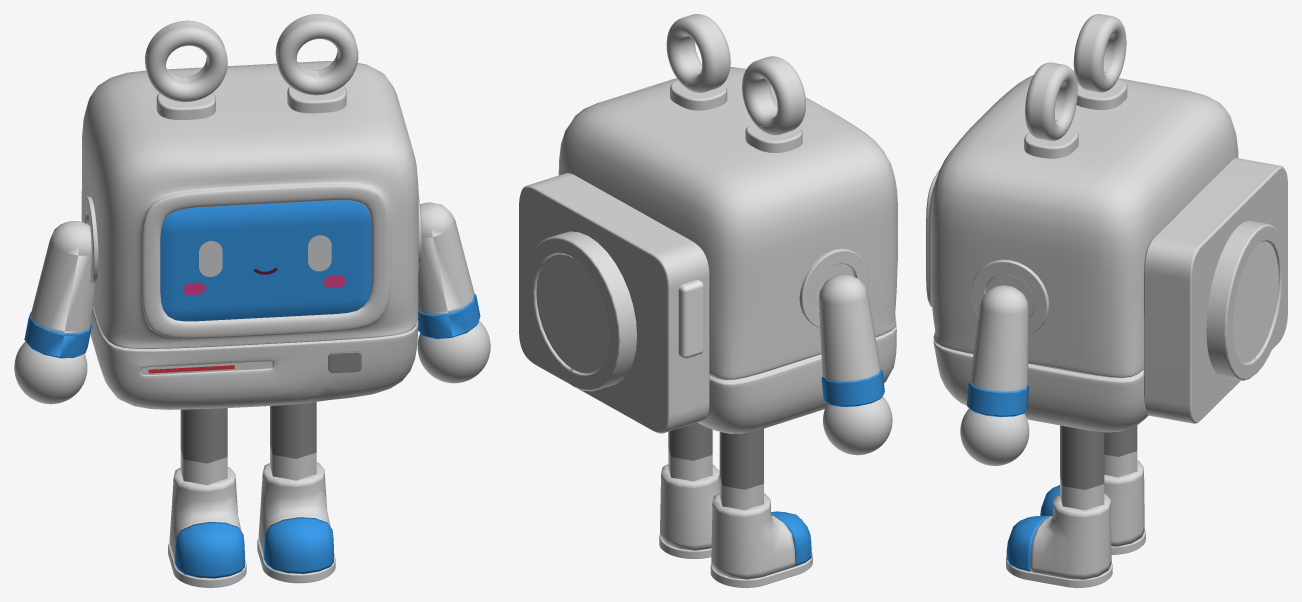
Rendered from robot2.glb.
The picture shows the model from 3 angles, left to right: view 1: azimuth 30°, elevation 25°; view 2: azimuth 150°, elevation 25°; view 3: azimuth 270°, elevation 25°; orthographic projection. The views are drawn at different scales.
Visible parts, largest first — view 1: body shape, face.001, Cylinder.001, Cylinder.002, Cylinder.003, Cylinder.004, Cube 6, Cube 6.001, Cube 5.001, Cube 5.002, Sphere 3, Sphere 3.001 (+15 smaller); view 2: body shape, Rectangle 7, Cylinder, Ellipse.001, Cylinder.001, Cube 5.002, Cube 5.001, Cylinder.003, Cylinder.004, Sphere 3, Cylinder 2.003, Cube 5 (+10 smaller); view 3: body shape, Rectangle 7, Cylinder, Cube 5.001, Cylinder.002, Ellipse.001, Cylinder.004, Cylinder.003, Sphere 3.001, Cylinder 2.002, Cube 5.002, Cylinder 3.001 (+8 smaller).
Boxes of the visible parts, <box> form: body shape: <box>81,61,418,409</box>; face.001: <box>160,200,371,321</box>; Cylinder.001: <box>30,221,94,333</box>; Cylinder.002: <box>418,202,474,314</box>; Cylinder.003: <box>275,14,358,95</box>; Cylinder.004: <box>145,20,227,101</box>; Cube 6: <box>264,517,333,573</box>; Cube 6.001: <box>174,521,244,578</box>; Cube 5.001: <box>258,462,334,558</box>; Cube 5.002: <box>169,467,245,562</box>; Sphere 3: <box>14,341,87,404</box>; Sphere 3.001: <box>417,320,490,383</box>; body shape: <box>558,67,897,433</box>; Rectangle 7: <box>519,173,709,433</box>; Cylinder: <box>524,231,636,391</box>; Ellipse.001: <box>536,254,609,373</box>; Cylinder.001: <box>818,274,880,381</box>; Cube 5.002: <box>711,493,795,579</box>; Cube 5.001: <box>660,464,719,550</box>; Cylinder.003: <box>666,14,730,92</box>; Cylinder.004: <box>742,56,805,135</box>; Sphere 3: <box>823,396,892,455</box>; Cylinder 2.003: <box>719,428,763,489</box>; Cube 5: <box>678,280,704,358</box>; body shape: <box>926,70,1238,432</box>; Rectangle 7: <box>1143,158,1287,423</box>; Cylinder: <box>1206,220,1287,380</box>; Cube 5.001: <box>1030,493,1111,579</box>; Cylinder.002: <box>970,285,1028,391</box>; Ellipse.001: <box>1232,242,1278,362</box>; Cylinder.004: <box>1073,14,1126,92</box>; Cylinder.003: <box>1025,62,1077,140</box>; Sphere 3.001: <box>960,408,1029,465</box>; Cylinder 2.002: <box>1060,425,1104,489</box>; Cube 5.002: <box>1104,460,1144,546</box>; Cylinder 3.001: <box>971,259,1049,335</box>.
Size of the model in its own units: 4.7 by 6.28 by 4.03.
